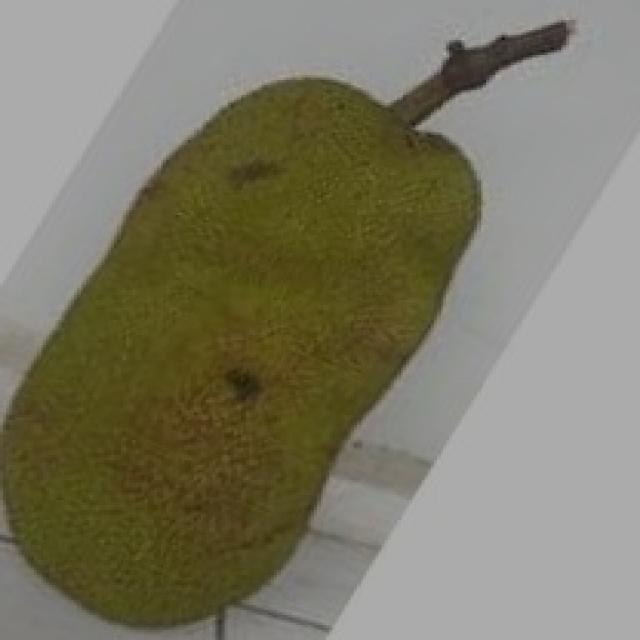Fruit: (108, 45, 514, 410)
